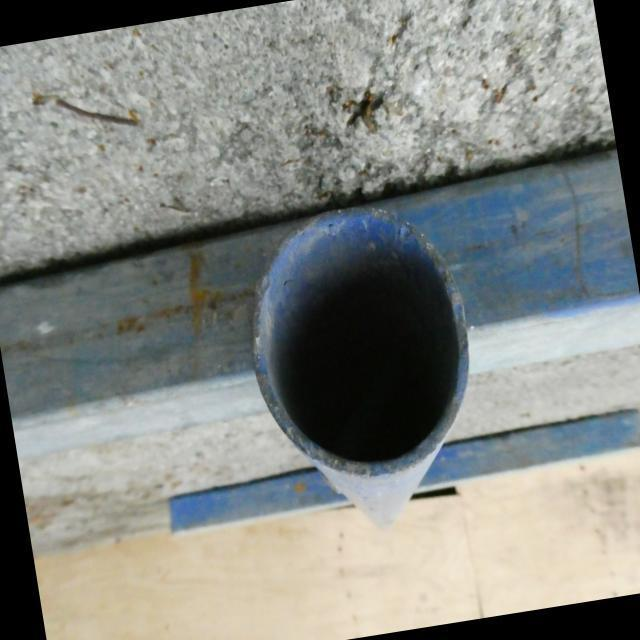pipe: (253, 209, 470, 476)
